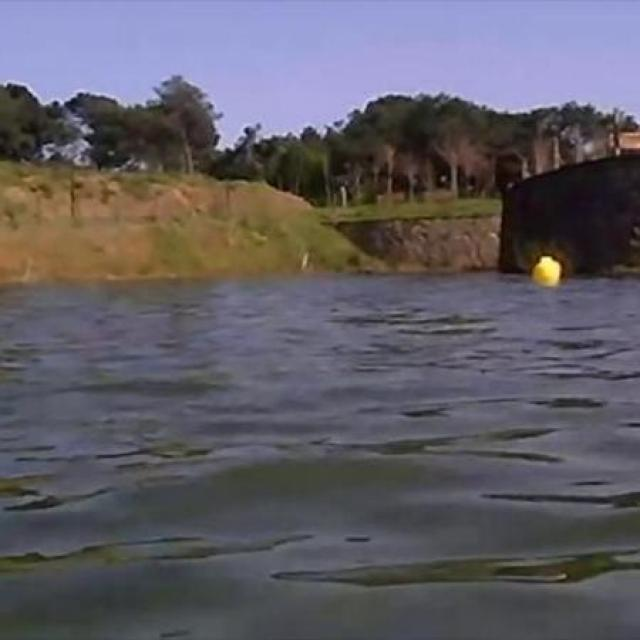buoy: (534, 256, 560, 286)
